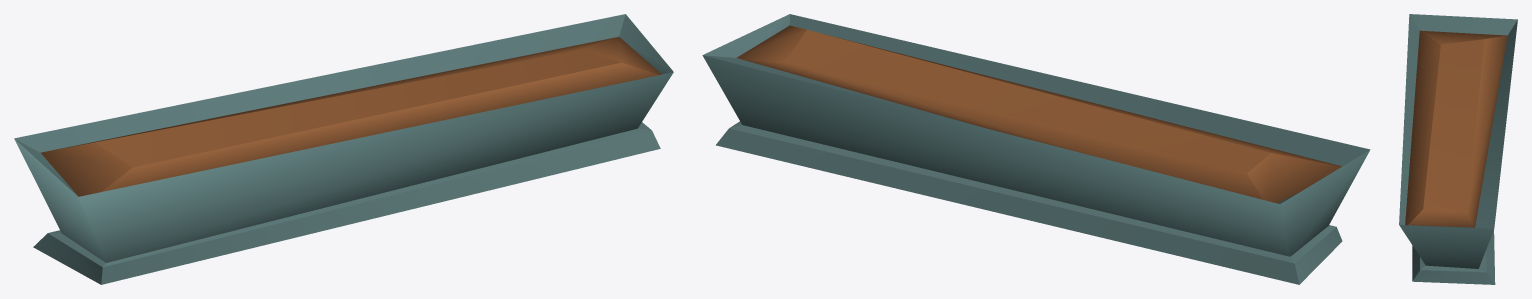
Rendered from c_deco_vase_rectangle_aa.fbx.
The picture shows the model from 3 angles, left to right: view 1: azimuth 30°, elevation 25°; view 2: azimuth 150°, elevation 25°; view 3: azimuth 270°, elevation 25°; orthographic projection. The views are drawn at different scales.
Parts seen in each view (by area): view 1: c_deco_vase_rectangle_aa; view 2: c_deco_vase_rectangle_aa; view 3: c_deco_vase_rectangle_aa.
Boxes of the visible parts, x1,y1,x2,y2 form: c_deco_vase_rectangle_aa: (14,14,673,284); c_deco_vase_rectangle_aa: (702,14,1370,284); c_deco_vase_rectangle_aa: (1399,14,1517,284).
Size of the model in its own units: 2.27 by 0.3434 by 0.5485.
